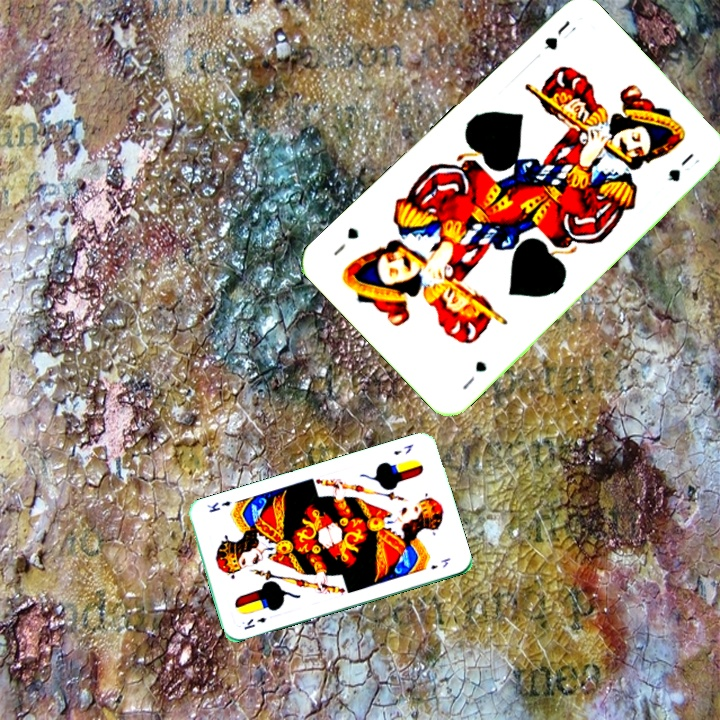EK: (240, 613, 269, 632), (390, 440, 416, 458)
GU: (540, 16, 579, 53), (458, 357, 490, 393)
